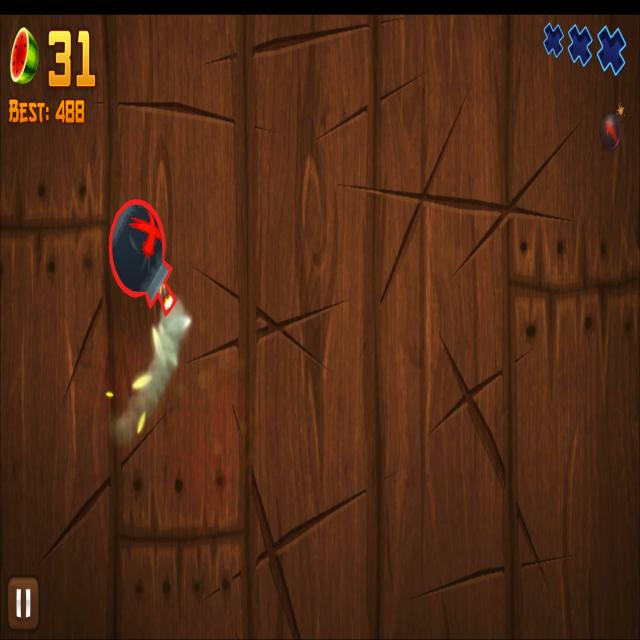bomb: (108, 199, 179, 316)
